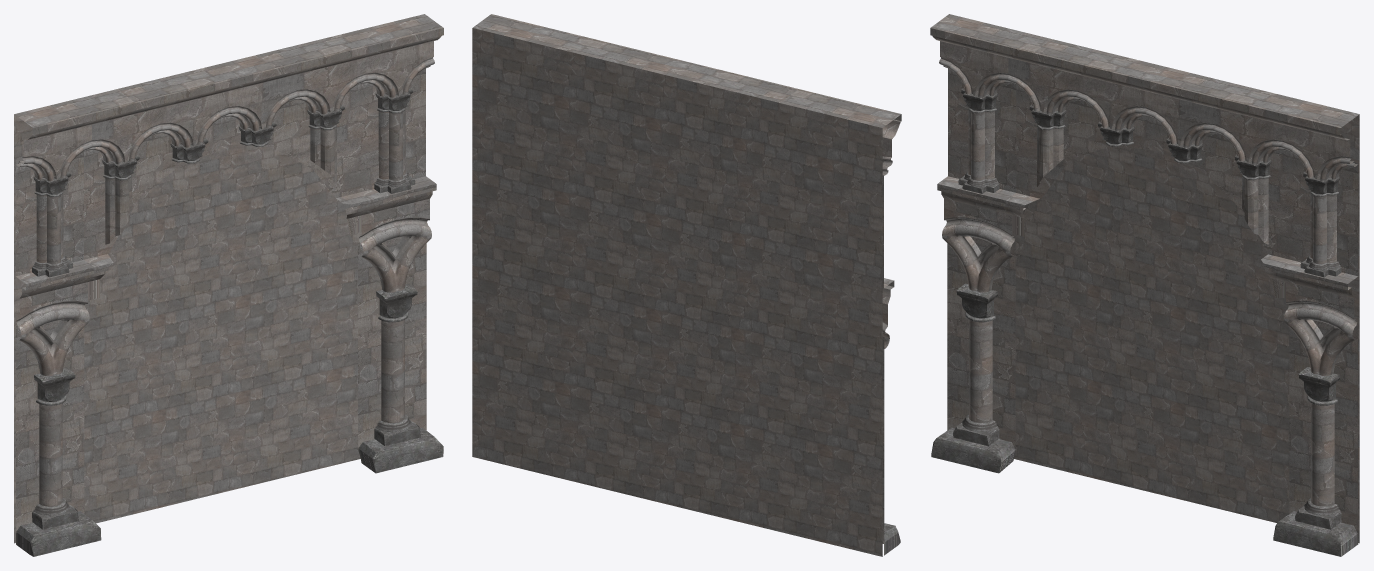
The picture shows the model from 3 angles, left to right: view 1: azimuth 30°, elevation 25°; view 2: azimuth 150°, elevation 25°; view 3: azimuth 330°, elevation 25°; orthographic projection.
Parts seen in each view (by area): view 1: SM_DungeonRoomTeleportWall002_LOD0; view 2: SM_DungeonRoomTeleportWall002_LOD0; view 3: SM_DungeonRoomTeleportWall002_LOD0.
Boxes of the visible parts, x1,y1,x2,y2 form: SM_DungeonRoomTeleportWall002_LOD0: (14,14,443,556); SM_DungeonRoomTeleportWall002_LOD0: (472,14,901,556); SM_DungeonRoomTeleportWall002_LOD0: (930,14,1359,556).
Size of the model in its own units: 6.01 by 6 by 0.4834.
Materials: 2 (2 with a texture image).
